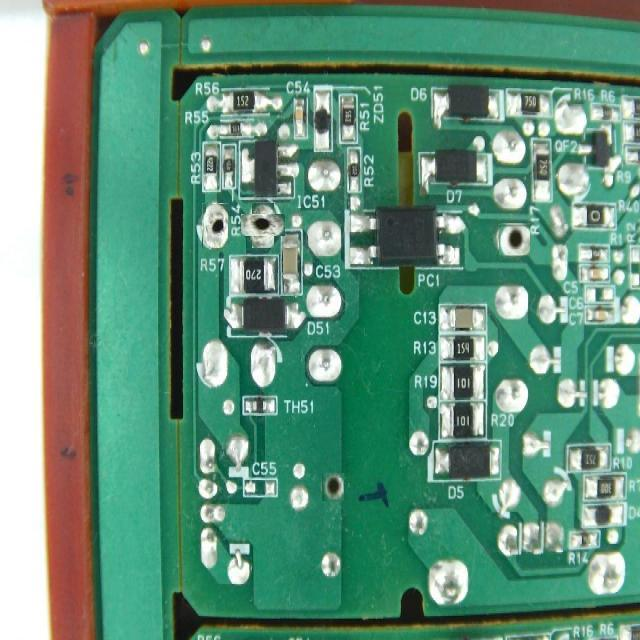damged: (202, 203, 228, 248), (246, 209, 280, 242), (498, 223, 530, 256), (322, 473, 344, 501)
